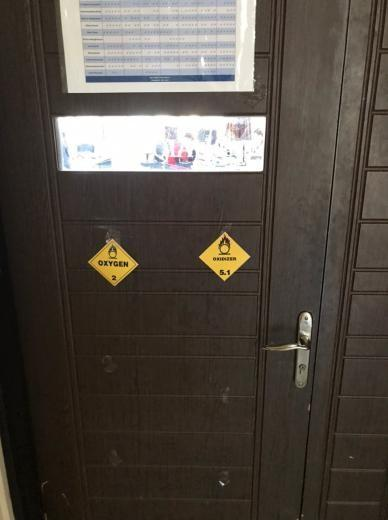oxidizer: (198, 231, 251, 282), (86, 238, 140, 288)
